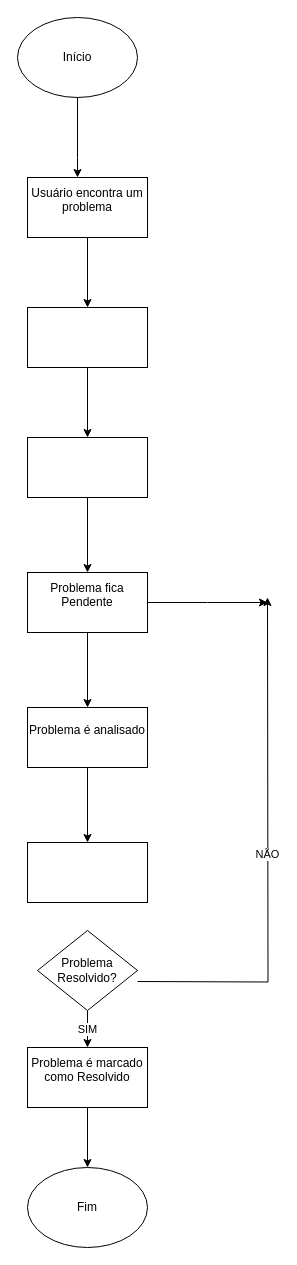
The diagram is 297 pixels wide and 1265 high, and some of its shapes have lost their labels. The shapes that lost their labels are listed below. From the top down, each one's centre as x and y in pixels, then its label:
the point at 87,337: Registrar problema
the point at 87,467: Informar local, tipo e descrição
the point at 87,872: Manutenção é realizada
